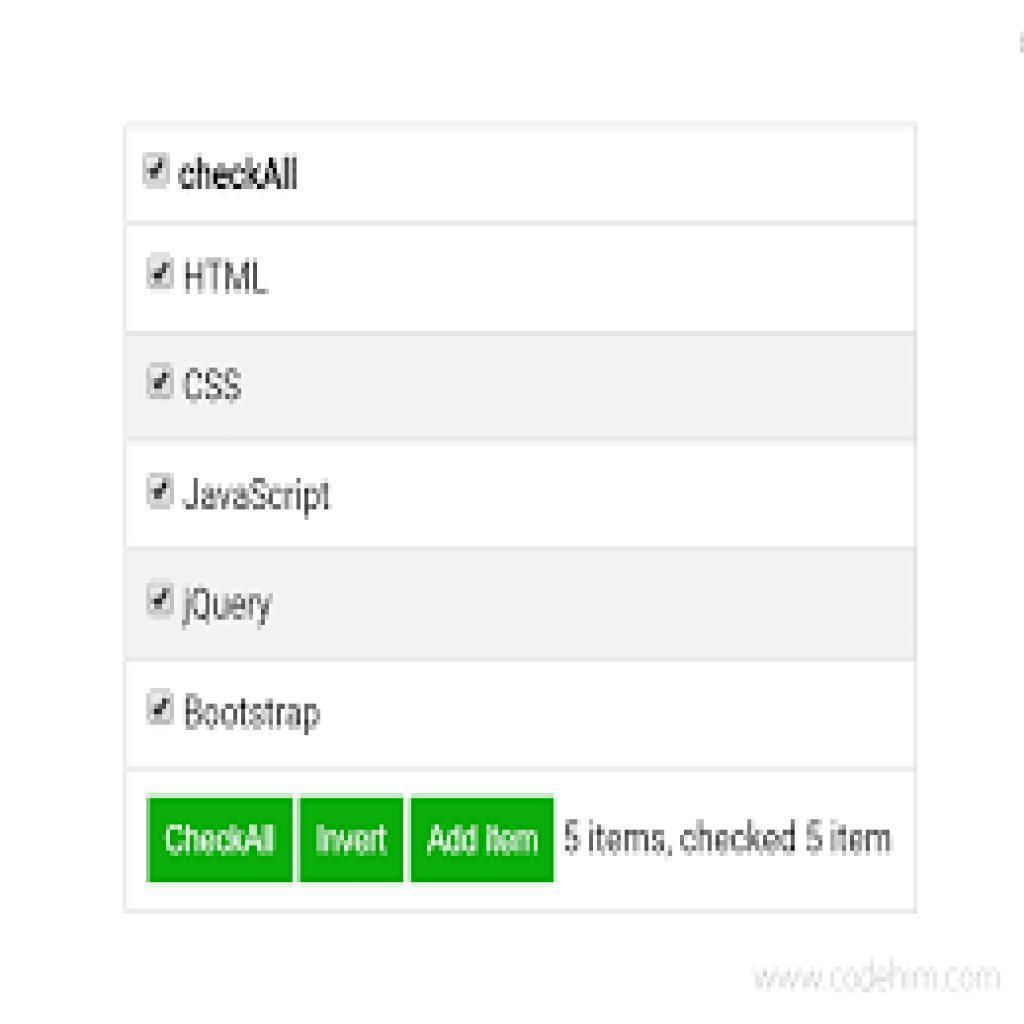button: (149, 798, 293, 881), (410, 799, 556, 880), (300, 799, 403, 883)
checkbox: (145, 358, 176, 400), (145, 251, 176, 292), (144, 577, 175, 617), (145, 469, 175, 510), (144, 690, 176, 725), (142, 149, 168, 191)
label: (559, 810, 900, 869), (184, 684, 332, 737), (180, 476, 332, 519), (174, 151, 303, 196), (183, 581, 279, 630), (181, 253, 275, 302), (181, 362, 251, 413)
